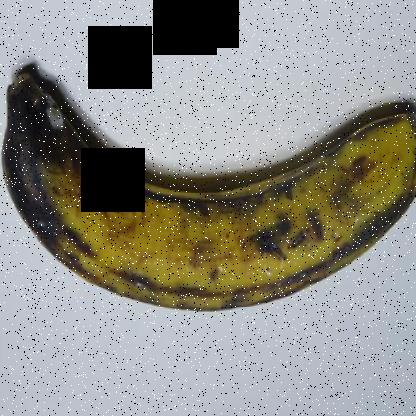overripe: (1, 57, 415, 339)
rotten: (1, 50, 117, 268)
